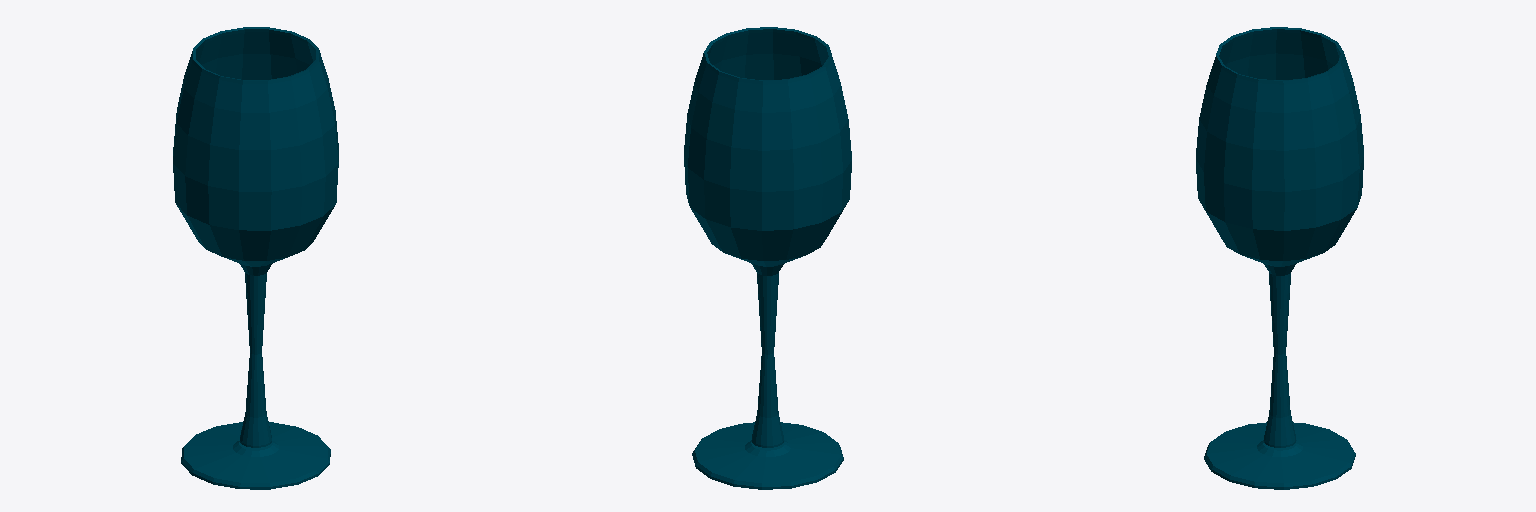
File: glass_5.obj
The picture shows the model from 3 angles: view 1: azimuth 30°, elevation 25°; view 2: azimuth 150°, elevation 25°; view 3: azimuth 270°, elevation 25°; orthographic projection.
Visible parts, largest first — view 1: glass_5; view 2: glass_5; view 3: glass_5.
Boxes of the visible parts, x1,y1,x2,y2 form: glass_5: [173, 27, 338, 489]; glass_5: [684, 27, 851, 489]; glass_5: [1196, 27, 1363, 489].
Size of the model in its own units: 7.12 by 18.81 by 7.12.